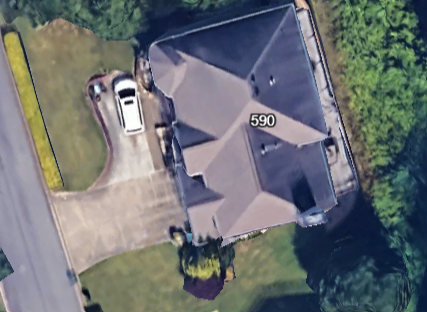driveway: (28, 66, 191, 273)
